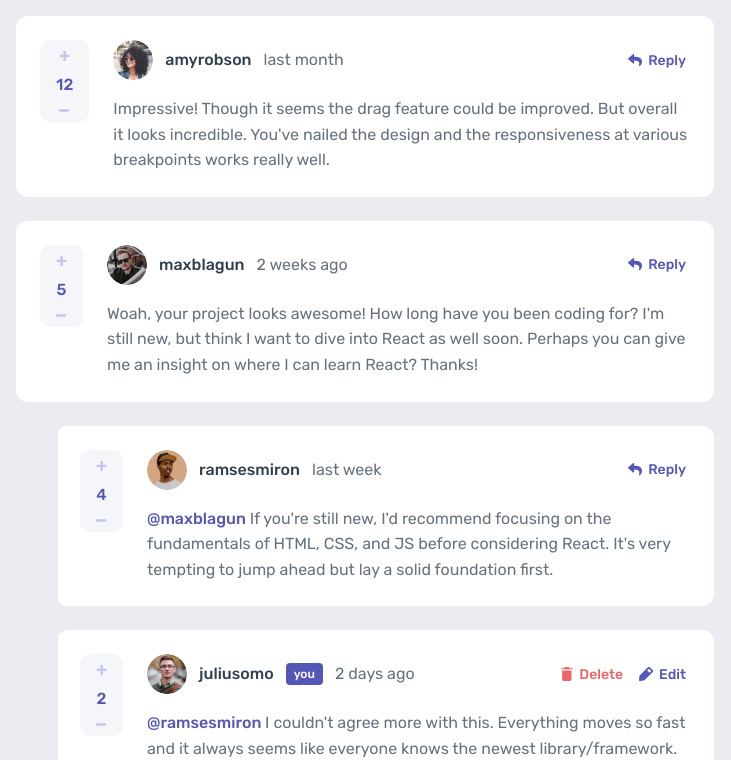
App integration › upvote increments score
Click the button named "Upvote" next to "amyrobson" at {"x": 65, "y": 56}, box [59,50,70,61]
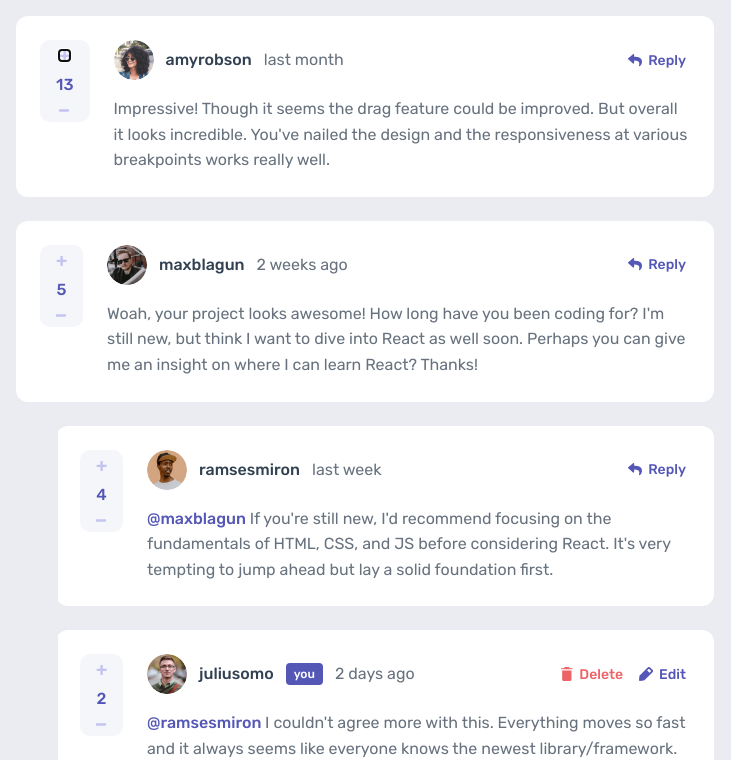
Check: the text "13" is shown, box [56,73,74,97]
